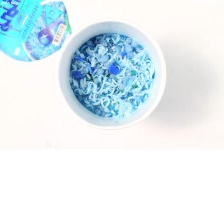paper_cup: (50, 15, 171, 132)
